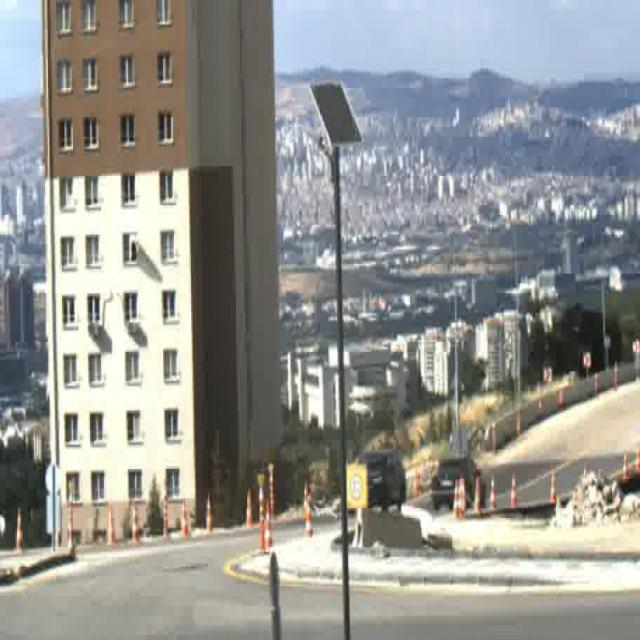Car: (354, 451, 406, 509), (433, 456, 486, 510)
